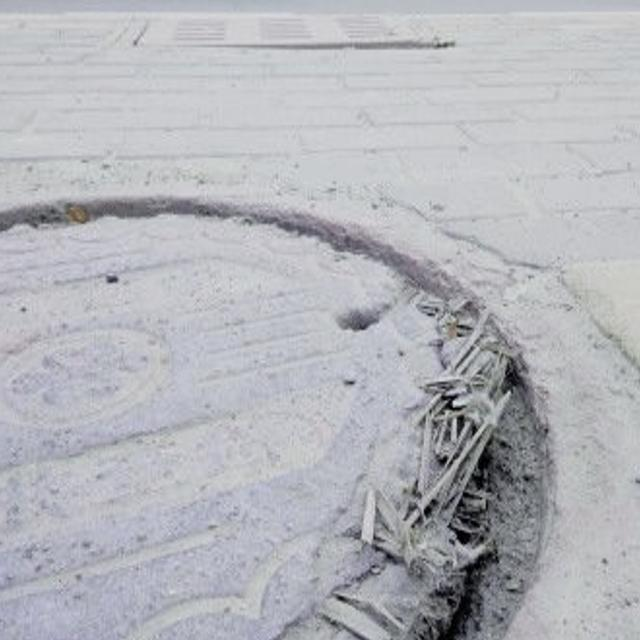circle: (6, 160, 636, 640)
